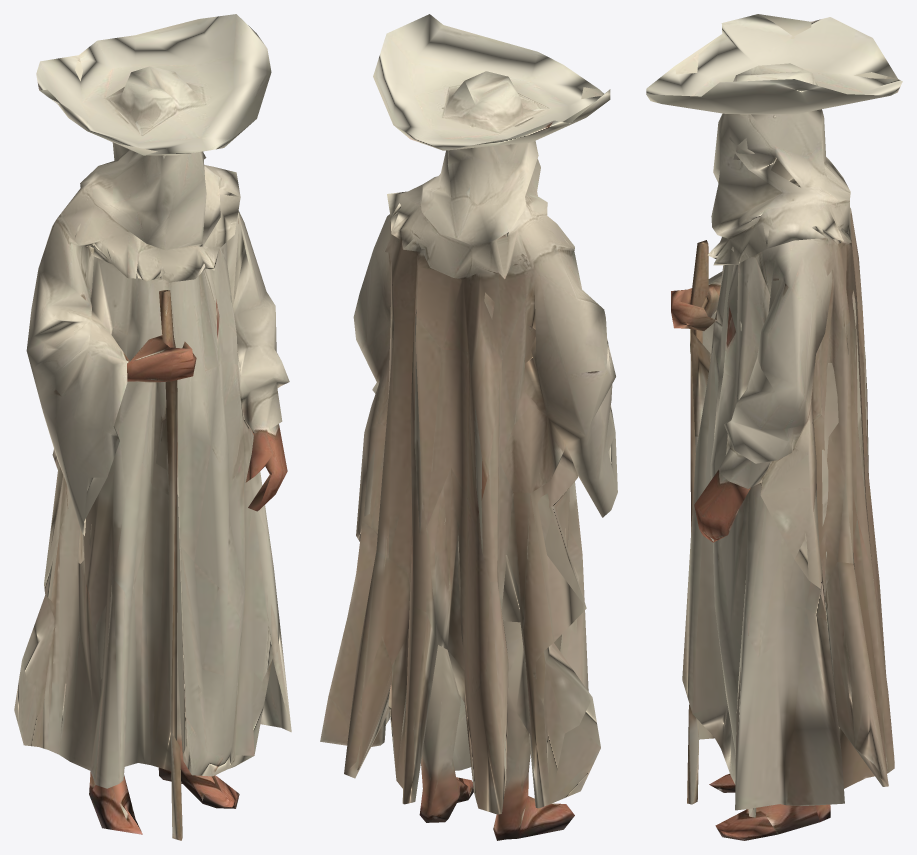
The model's file is eyo.glb.
3 renders of one model, left to right at view 1: azimuth 30°, elevation 25°; view 2: azimuth 150°, elevation 25°; view 3: azimuth 270°, elevation 25°, orthographic. The views are drawn at different scales.
Size of the model in its own units: 0.6694 by 1.89 by 0.5657.
1 material, 1 textured.
